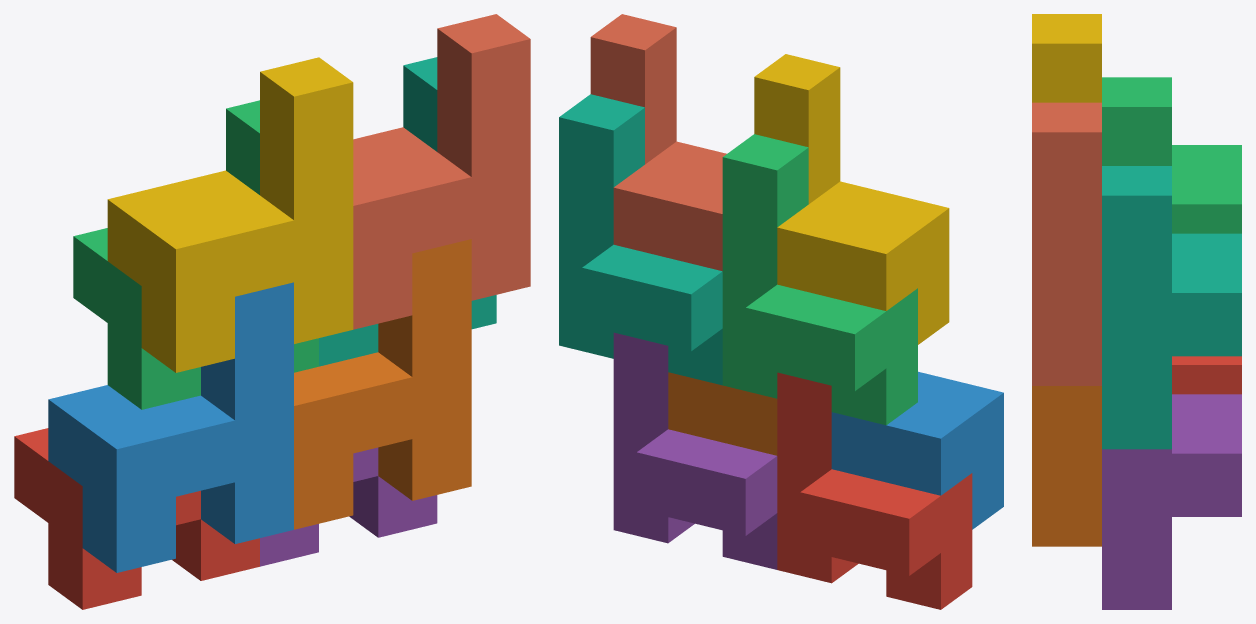
The model's file is tiling.obj.
The picture shows the model from 3 angles, left to right: view 1: azimuth 30°, elevation 25°; view 2: azimuth 150°, elevation 25°; view 3: azimuth 270°, elevation 25°; orthographic projection. The views are drawn at different scales.
Visible parts, largest first — view 1: copy_1_domain_4, copy_1_domain_2, copy_1_domain_8, copy_1_domain_6, copy_1_domain_1, copy_1_domain_3, copy_1_domain_5, copy_1_domain_7; view 2: copy_1_domain_3, copy_1_domain_7, copy_1_domain_4, copy_1_domain_1, copy_1_domain_5, copy_1_domain_8, copy_1_domain_2, copy_1_domain_6; view 3: copy_1_domain_7, copy_1_domain_5, copy_1_domain_8, copy_1_domain_3, copy_1_domain_6, copy_1_domain_4, copy_1_domain_1.
Part boxes in pixels (left/top/right/bottom): copy_1_domain_4: left=107, top=57, right=353, bottom=372; copy_1_domain_2: left=48, top=282, right=293, bottom=572; copy_1_domain_8: left=353, top=14, right=530, bottom=329; copy_1_domain_6: left=294, top=239, right=471, bottom=529; copy_1_domain_1: left=14, top=428, right=259, bottom=609; copy_1_domain_3: left=73, top=100, right=318, bottom=409; copy_1_domain_5: left=260, top=447, right=437, bottom=566; copy_1_domain_7: left=319, top=57, right=496, bottom=366; copy_1_domain_3: left=722, top=134, right=917, bottom=425; copy_1_domain_7: left=559, top=94, right=722, bottom=385; copy_1_domain_4: left=754, top=54, right=949, bottom=344; copy_1_domain_1: left=777, top=372, right=972, bottom=609; copy_1_domain_5: left=613, top=332, right=777, bottom=569; copy_1_domain_8: left=590, top=14, right=726, bottom=271; copy_1_domain_2: left=831, top=371, right=1003, bottom=529; copy_1_domain_6: left=668, top=372, right=777, bottom=455; copy_1_domain_7: left=1102, top=166, right=1241, bottom=449; copy_1_domain_5: left=1102, top=394, right=1241, bottom=609; copy_1_domain_8: left=1032, top=102, right=1101, bottom=385; copy_1_domain_3: left=1102, top=77, right=1241, bottom=233; copy_1_domain_6: left=1032, top=386, right=1101, bottom=546; copy_1_domain_4: left=1032, top=14, right=1101, bottom=102; copy_1_domain_1: left=1172, top=356, right=1241, bottom=394.
Bounding box in the file's own units: 7 × 8 × 3.
